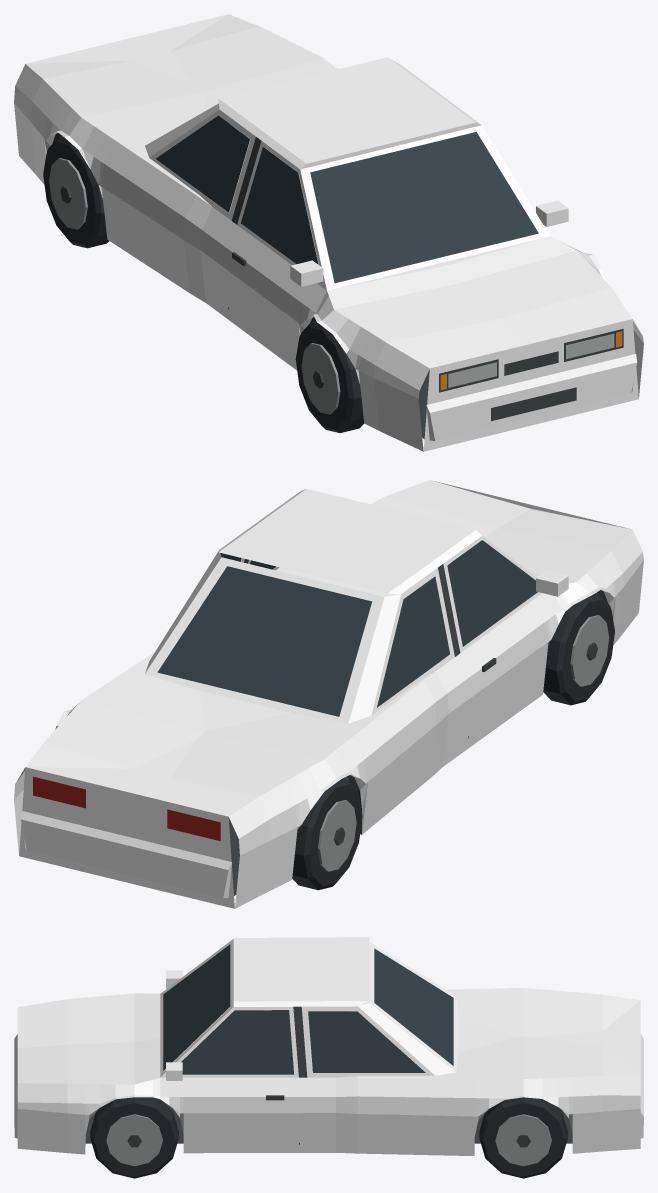
Rendered from aubrac_grive.glb.
3 renders of one model, top to bottom at view 1: azimuth 30°, elevation 25°; view 2: azimuth 150°, elevation 25°; view 3: azimuth 270°, elevation 25°, orthographic. The views are drawn at different scales.
Parts seen in each view (by area): view 1: aubrac_grive; view 2: aubrac_grive; view 3: aubrac_grive.
Boxes of the visible parts, box(x1,y1,x2,y2) form: aubrac_grive: box(14, 14, 643, 451); aubrac_grive: box(14, 480, 643, 908); aubrac_grive: box(14, 937, 643, 1178).
Size of the model in its own units: 1.76 by 1.27 by 4.5.
8 materials, 1 textured.
